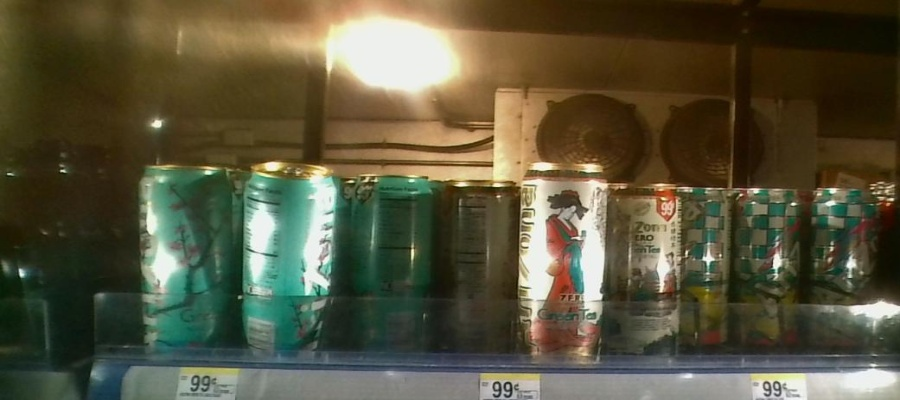bottle: (239, 155, 337, 364), (137, 154, 235, 361), (518, 158, 608, 368), (345, 169, 437, 364), (440, 173, 515, 362), (610, 171, 682, 364), (736, 178, 805, 358), (810, 181, 876, 360), (684, 186, 730, 355)
